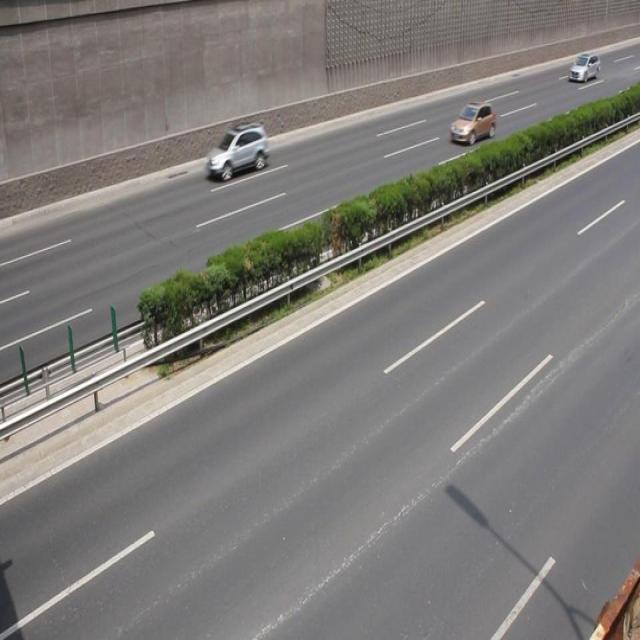car: (206, 123, 268, 182), (448, 101, 495, 146), (567, 55, 599, 81)
